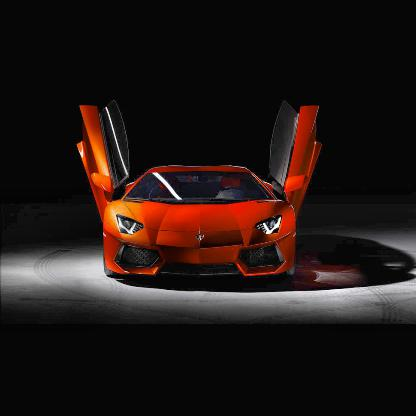Lamborghini Aventador Coupe 2012: (74, 103, 326, 294)
